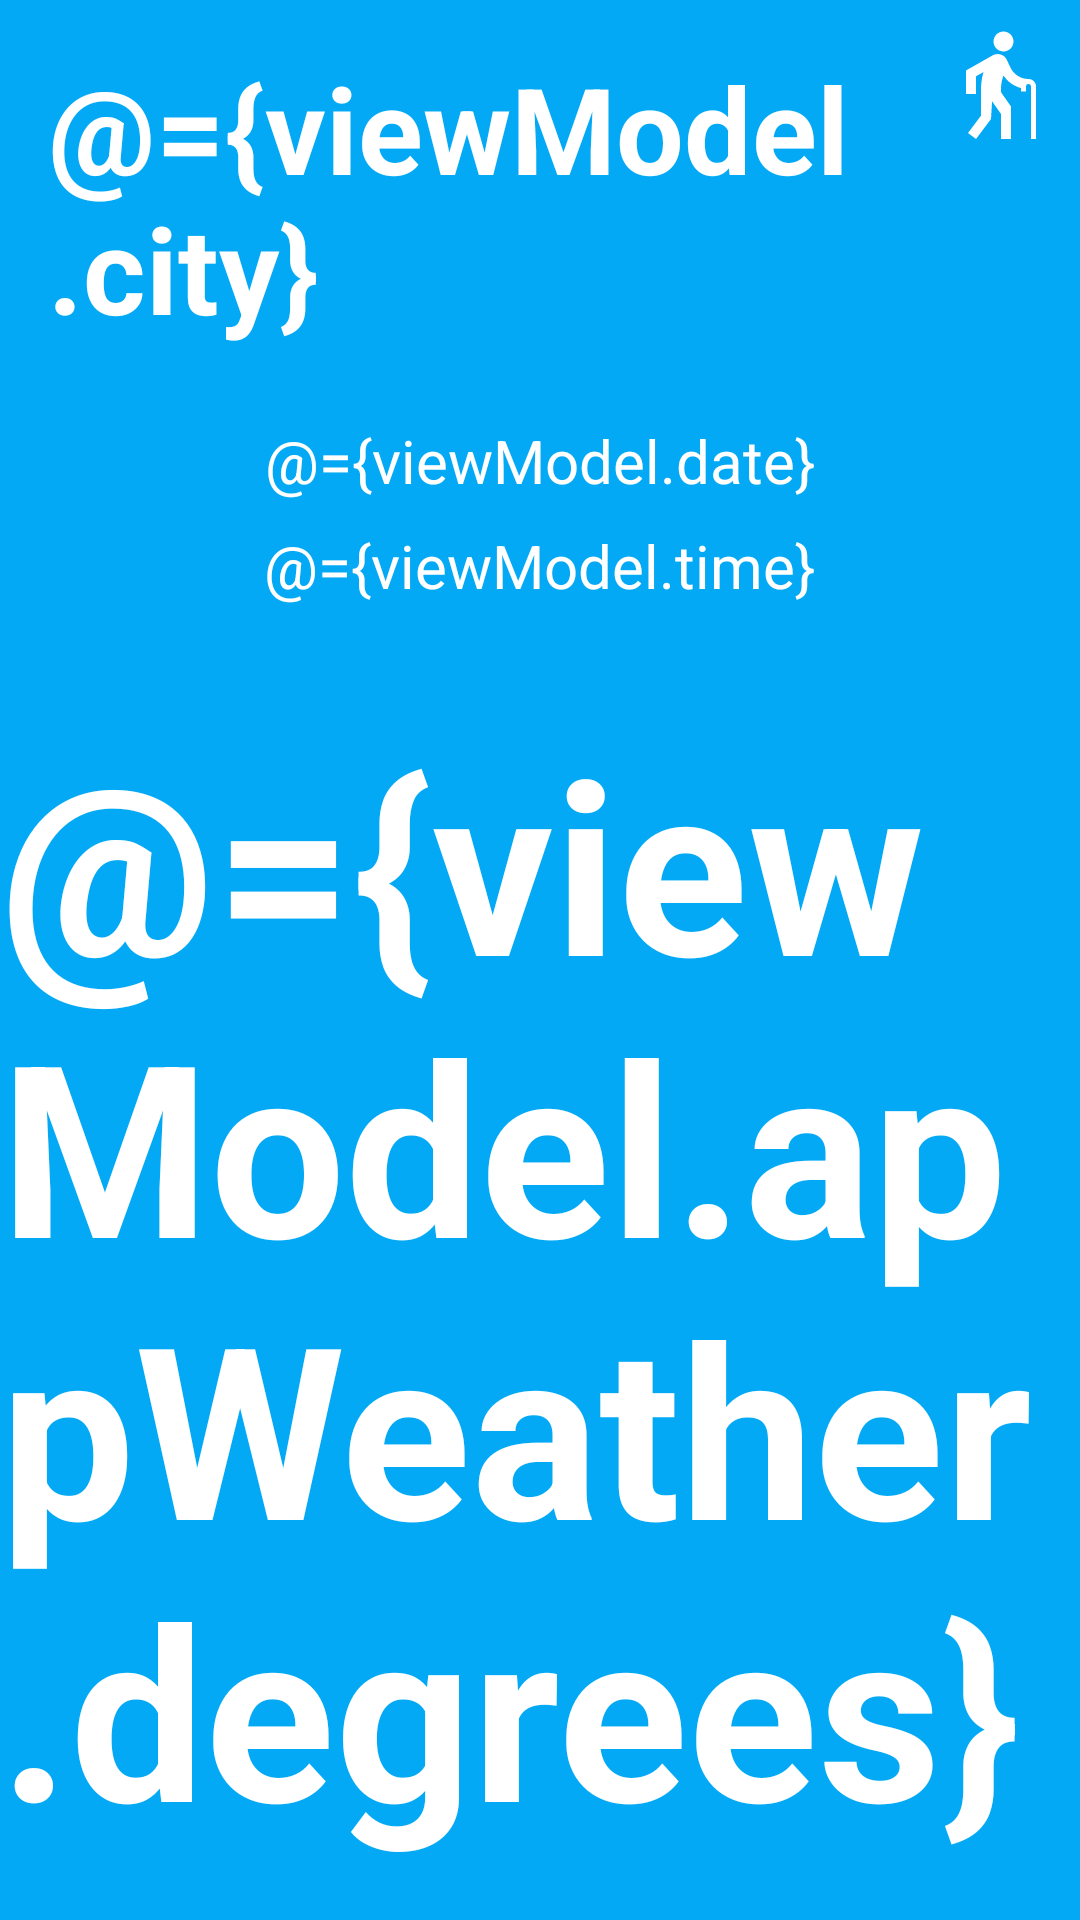

Named icons in this screenshot (1080x1920) and their bounding boxes, Rect(x1, y1, x2, y2):
elderly: Rect(966, 31, 1036, 139)
